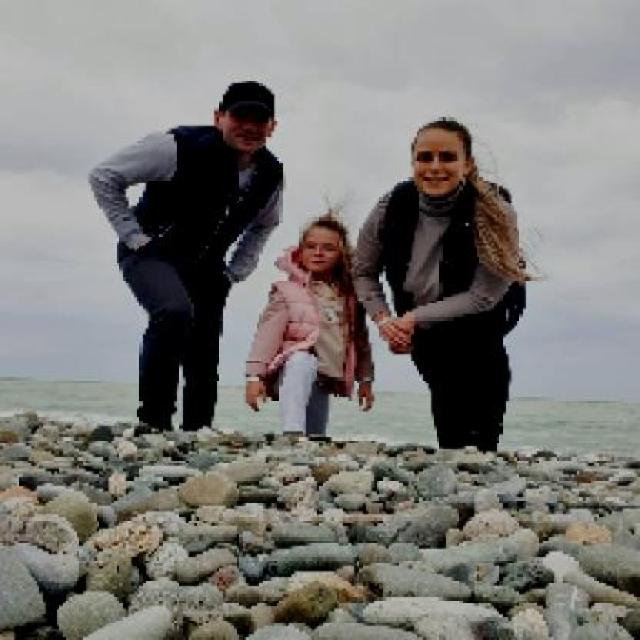child: (244, 215, 379, 434)
